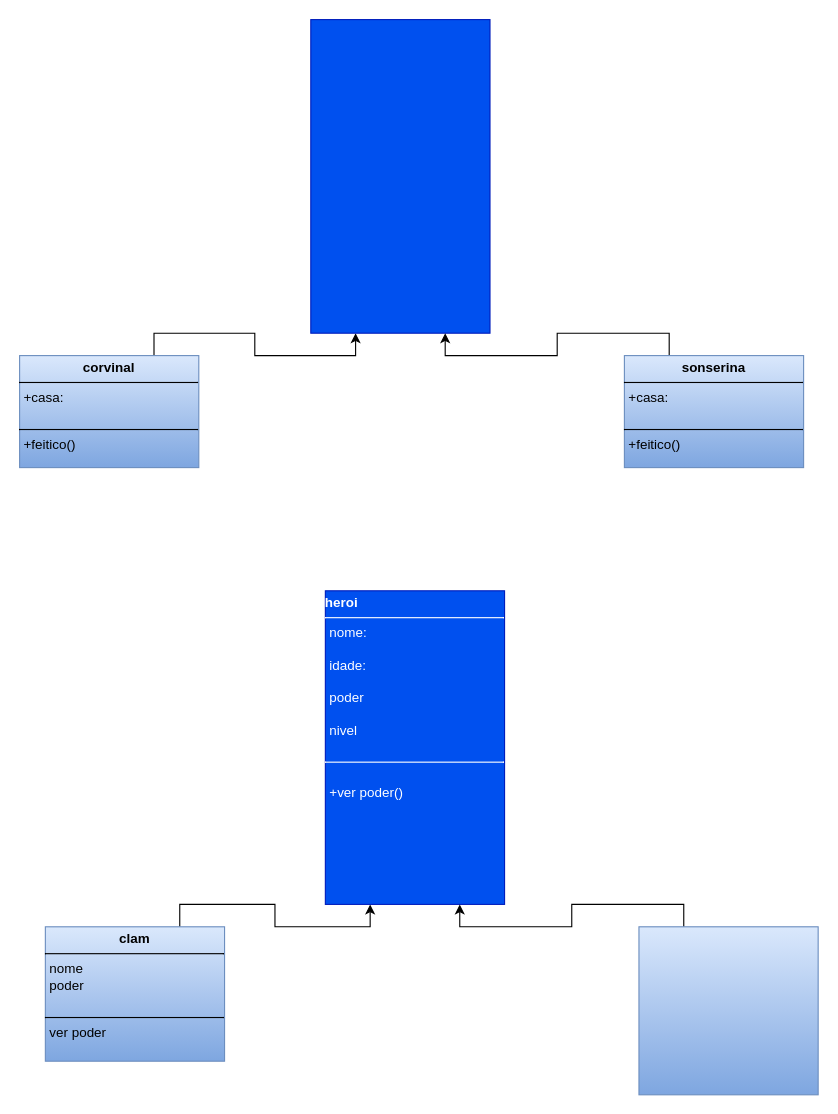
The diagram is 838 pixels wide and 1114 high, and some of its shapes have lost their labels. Each missing label, with the centre of its shape:
"bruxo nome: idade: feitico: casa: nivel magia: +ver energia() recarregar()" belongs at (x=400, y=175).
"clamas nome poder ver poder" belongs at (x=728, y=1010).
